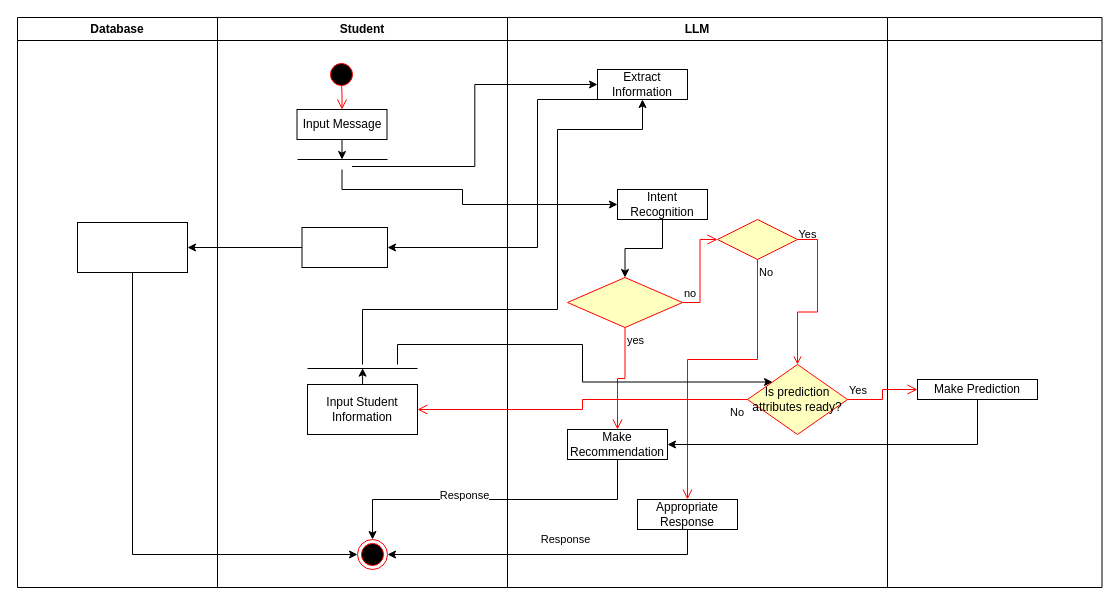
Some shapes in this 1120 by 605 pixel diagram are drawn without their labels. Here are the shapes that lost their labels. From the top down, the box of each, then its label:
(76, 222, 188, 272): Store Information
(301, 226, 388, 268): Assign new attributes
(716, 218, 798, 260): Prediction
(566, 276, 682, 328): Recommendation?
(886, 16, 1102, 588): ML Model
